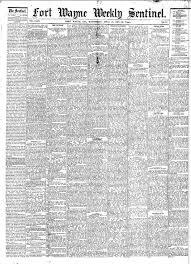Printing industry: (1, 2, 191, 264)
